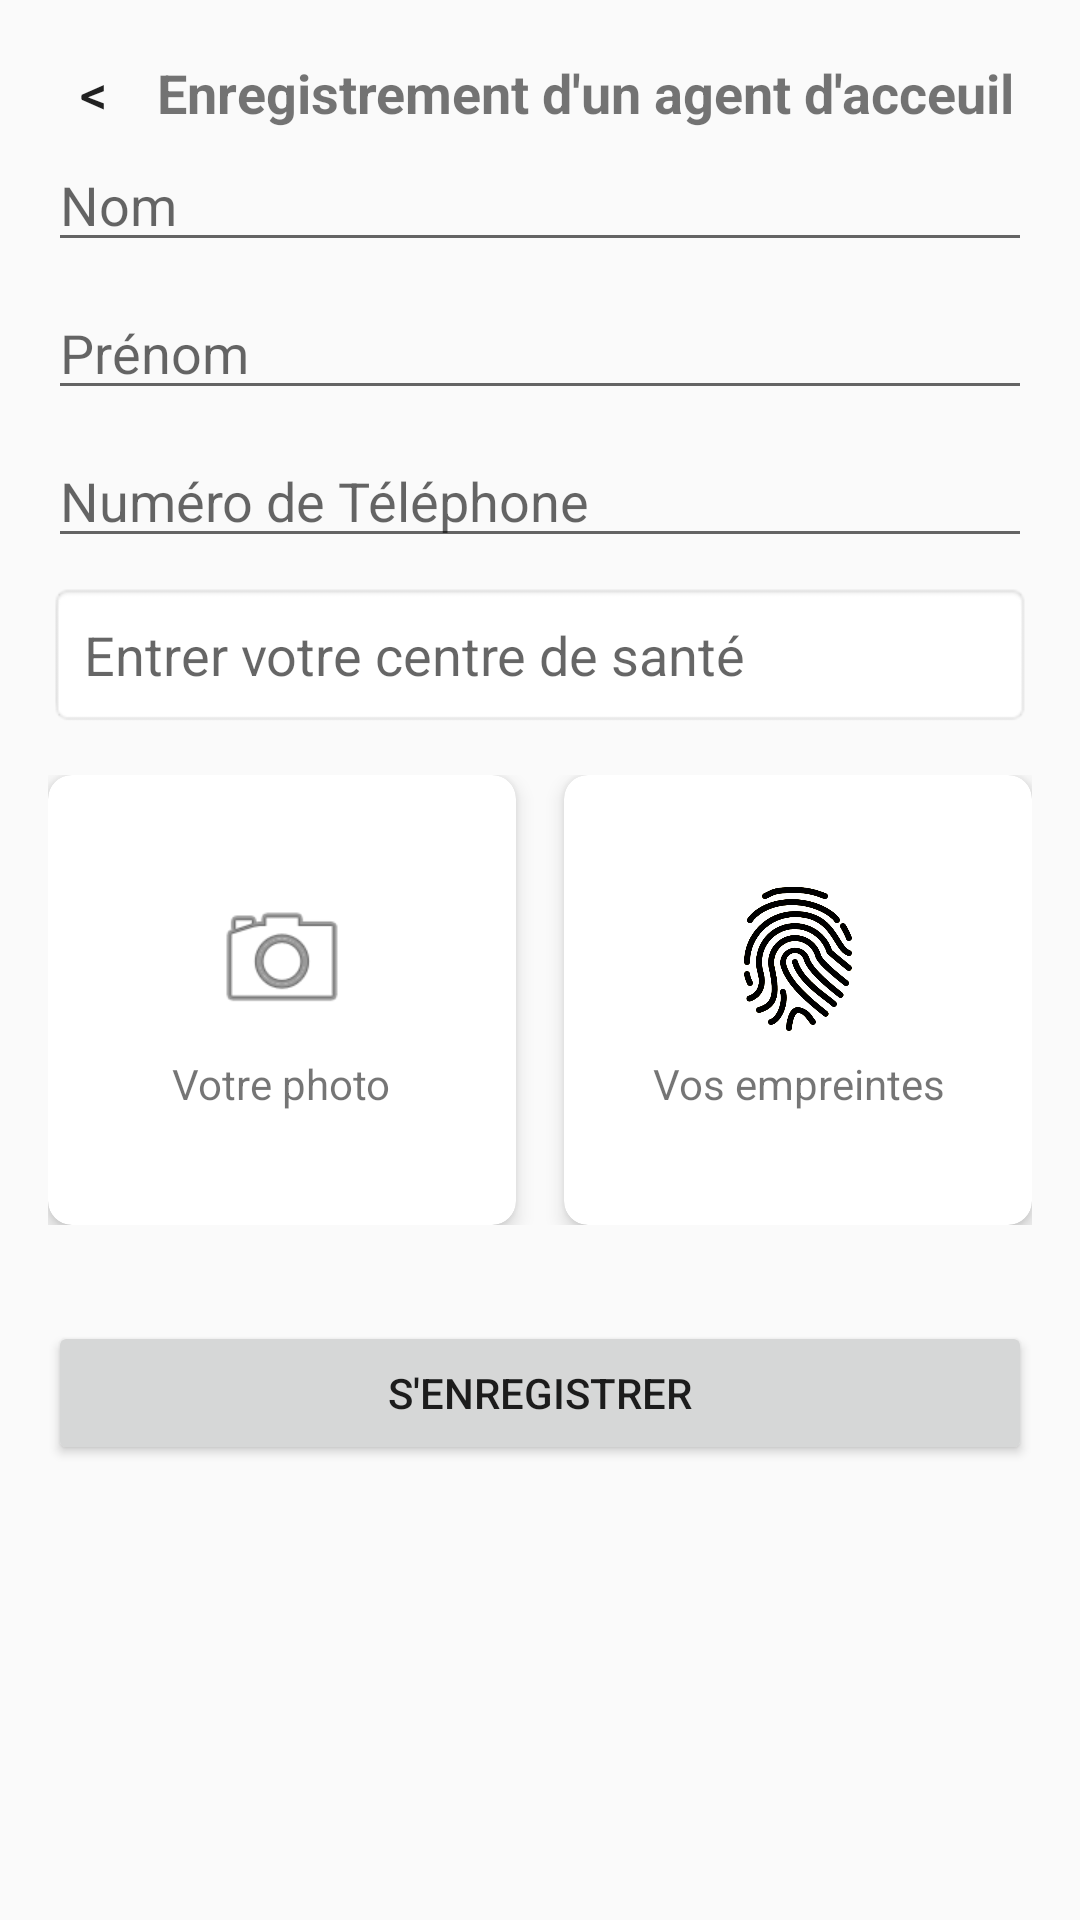

Named icons in this screenshot (1080w x 1920h) and their bounding boxes, (x1, y1, x2, y2):
Camera icon: (226, 912, 338, 1001)
